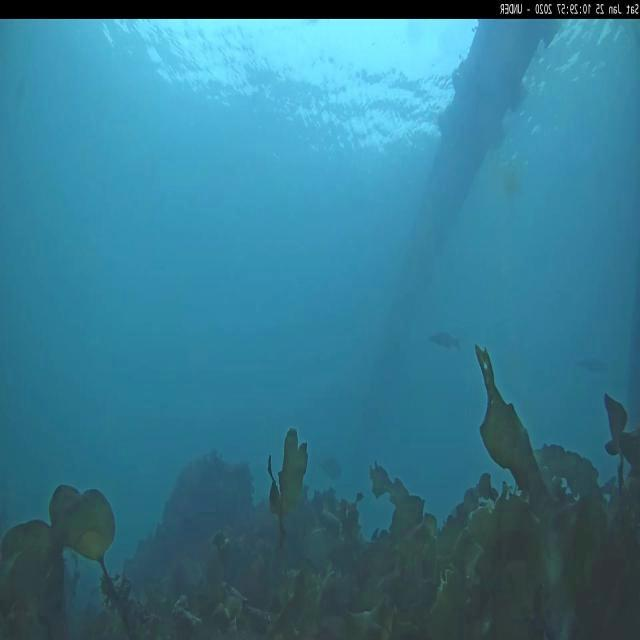fish: (320, 452, 344, 485), (428, 329, 458, 352), (576, 356, 607, 371)
